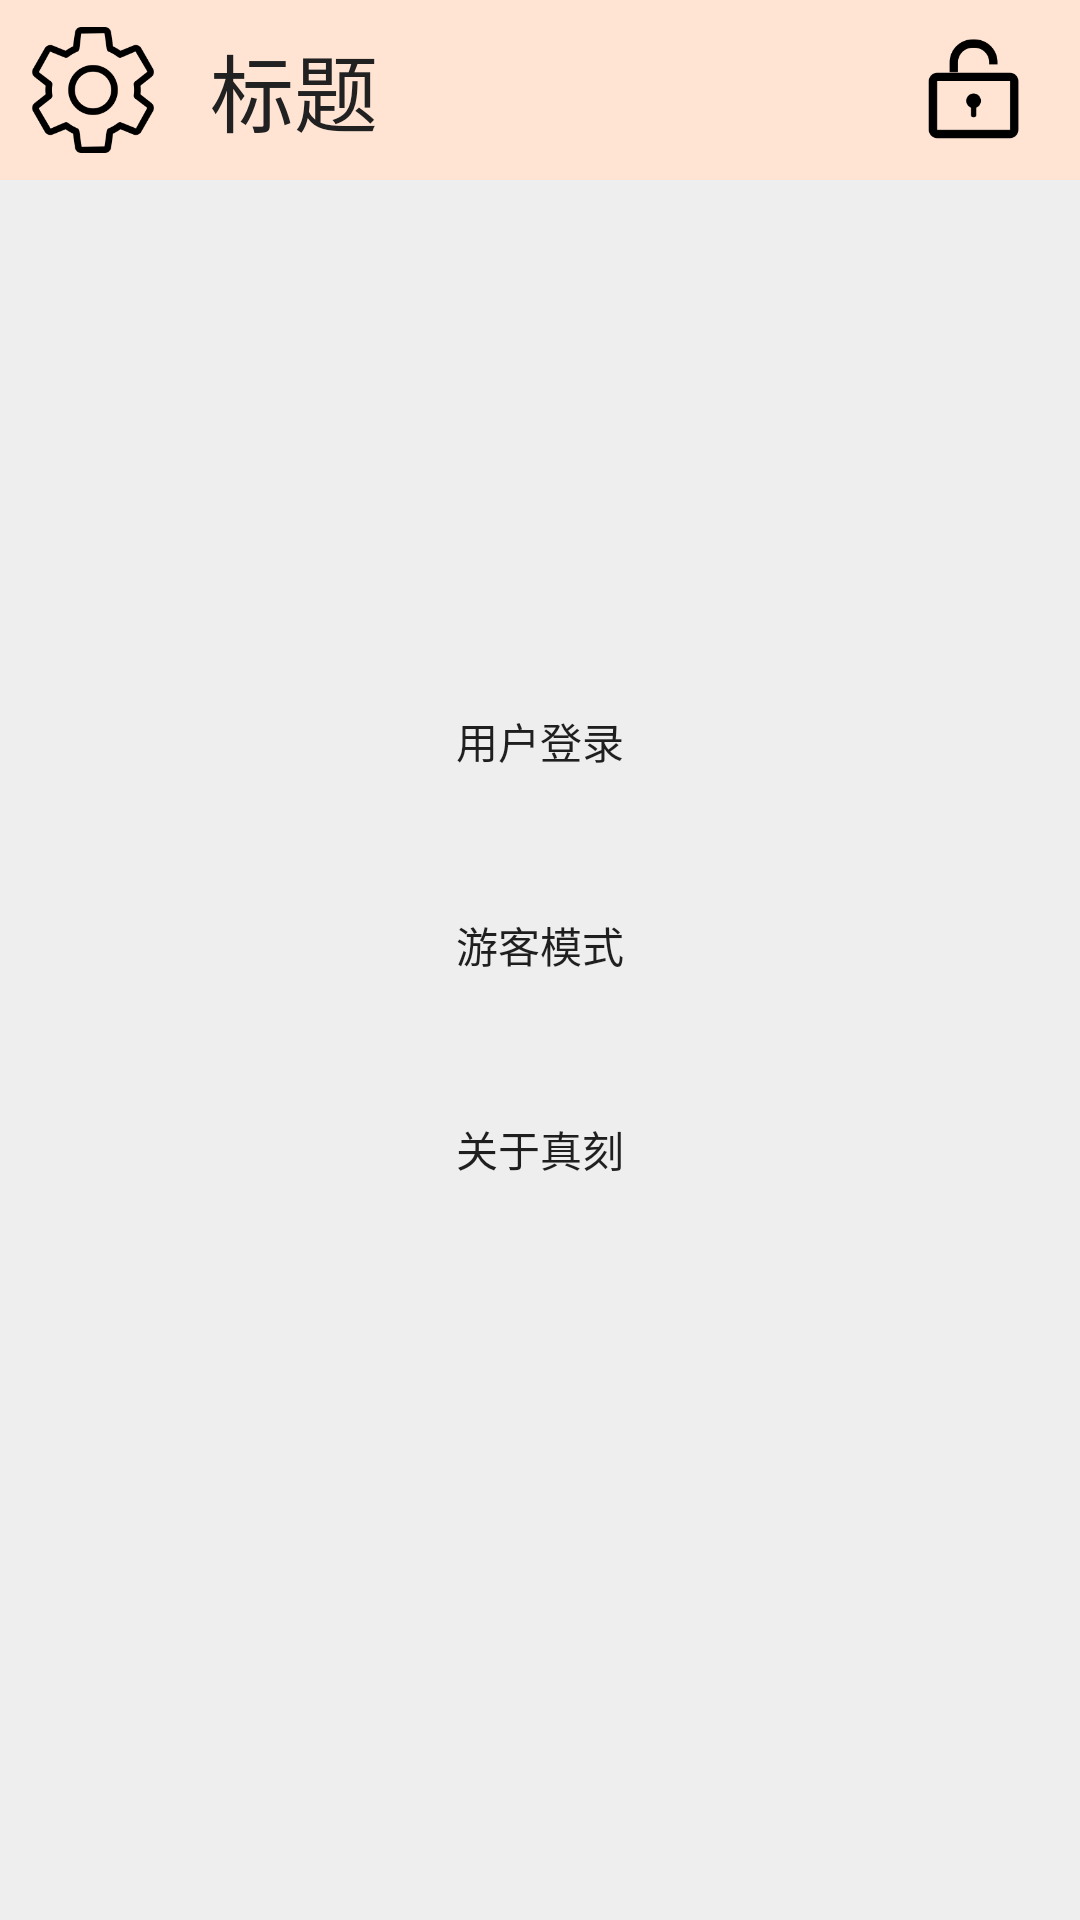

Locate icon controls on the screen. Image size 1080×1920, boxes as (x1, y1, x2, y2).
mima: (928, 39, 1019, 139)
shezhi: (32, 27, 154, 153)
